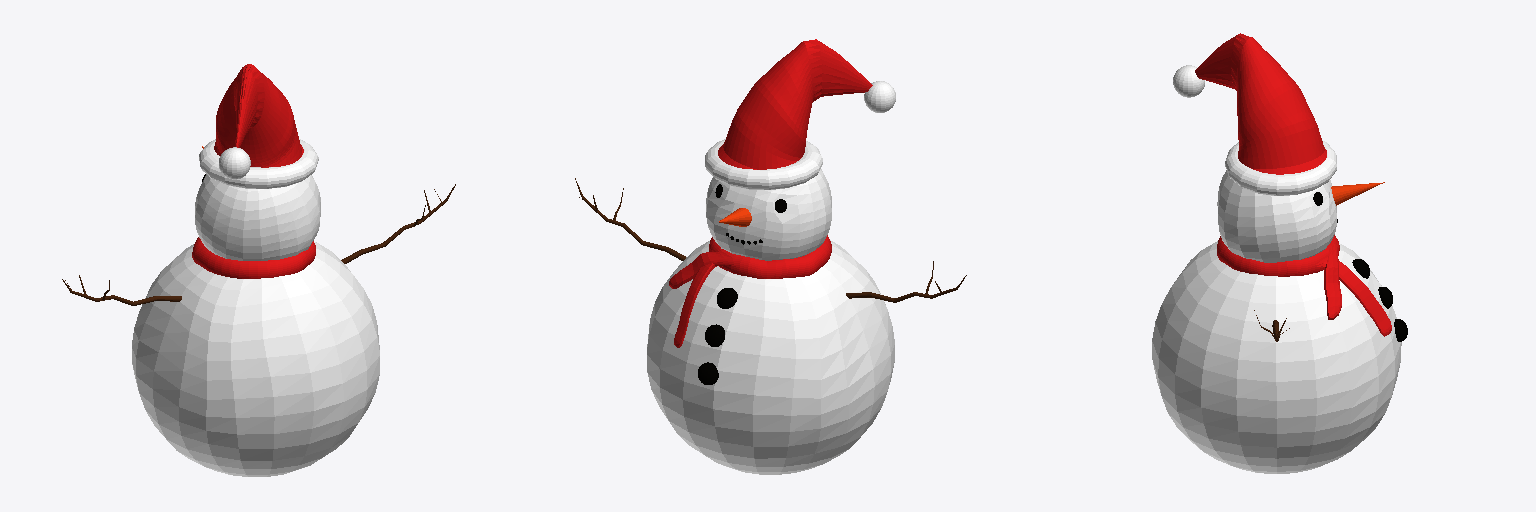
3 views of the same model, side by side, from view 1: azimuth 30°, elevation 25°; view 2: azimuth 150°, elevation 25°; view 3: azimuth 270°, elevation 25° (orthographic).
Visible parts, largest first — view 1: snowman:pSphere1, snowman:polySurface1pSphere16, snowman:pSphere19, snowman:pTorus2, snowman:pTorus1, snowman:pCylinder3; view 2: snowman:pSphere1, snowman:pSphere19, snowman:polySurface1pSphere16, snowman:pTorus1, snowman:pTorus2, snowman:pCylinder3, snowman:pSphere18; view 3: snowman:pSphere1, snowman:pSphere19, snowman:polySurface1pSphere16, snowman:pTorus1, snowman:pTorus2, snowman:pSphere18, snowman:pSphere16polySurface11.
Part boxes in pixels (bbox=[...]): snowman:pSphere1: bbox=[132, 242, 379, 476]; snowman:polySurface1pSphere16: bbox=[195, 174, 320, 260]; snowman:pSphere19: bbox=[214, 64, 303, 179]; snowman:pTorus2: bbox=[199, 139, 318, 188]; snowman:pTorus1: bbox=[192, 237, 315, 278]; snowman:pCylinder3: bbox=[62, 184, 455, 305]; snowman:pSphere1: bbox=[647, 240, 894, 474]; snowman:pSphere19: bbox=[718, 39, 895, 169]; snowman:polySurface1pSphere16: bbox=[706, 169, 831, 260]; snowman:pTorus1: bbox=[669, 235, 831, 347]; snowman:pTorus2: bbox=[705, 139, 822, 189]; snowman:pCylinder3: bbox=[575, 178, 966, 302]; snowman:pSphere18: bbox=[698, 288, 737, 384]; snowman:pSphere1: bbox=[1152, 241, 1401, 473]; snowman:pSphere19: bbox=[1173, 33, 1326, 174]; snowman:polySurface1pSphere16: bbox=[1217, 170, 1336, 262]; snowman:pTorus1: bbox=[1217, 235, 1391, 336]; snowman:pTorus2: bbox=[1225, 140, 1336, 195]; snowman:pSphere18: bbox=[1352, 259, 1407, 341]; snowman:pSphere16polySurface11: bbox=[1331, 182, 1384, 205].
Size of the model in its own units: 2.05 by 2.07 by 1.15.
5 materials, 5 textured.